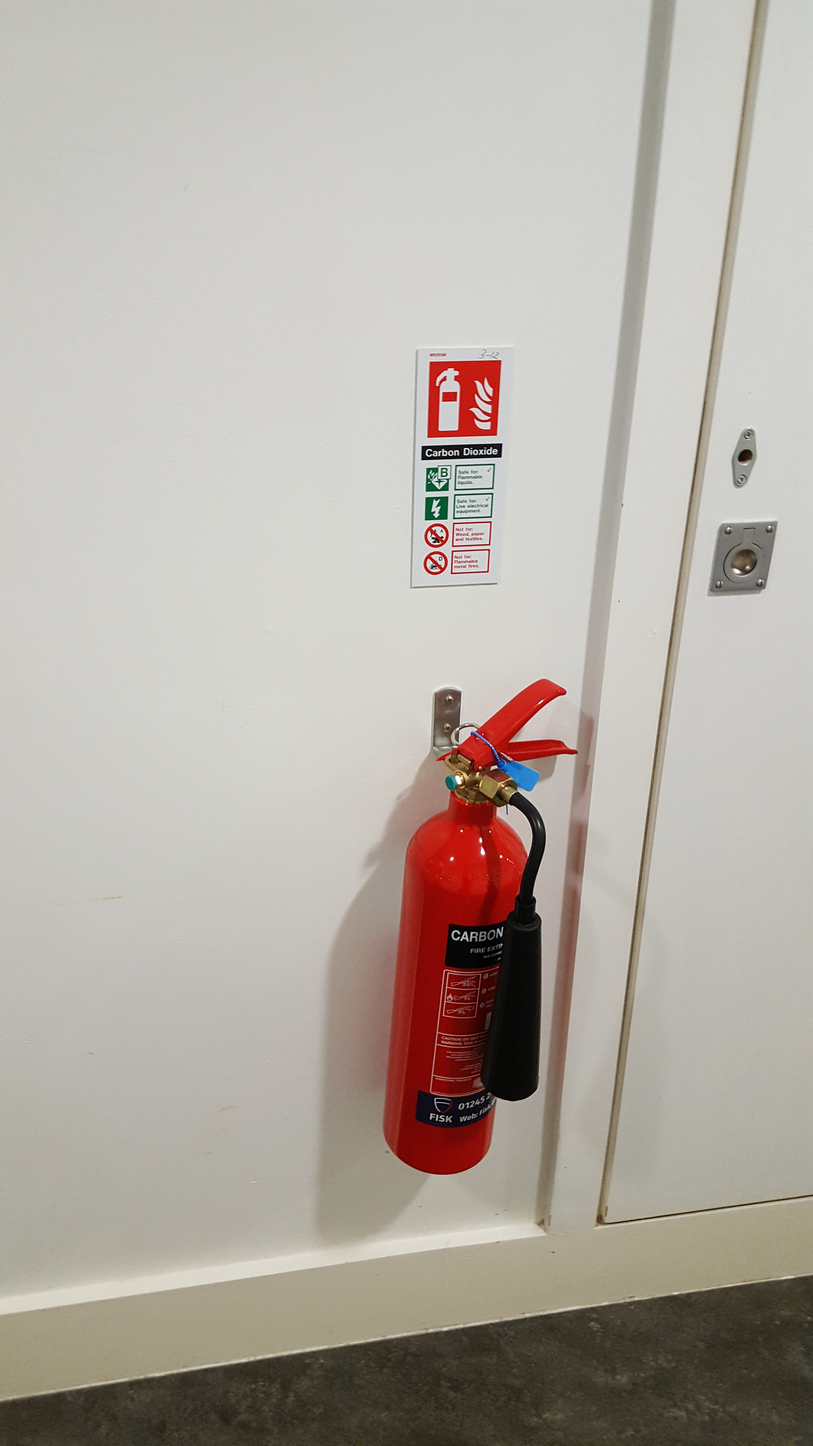fire_extinguisher: (381, 677, 579, 1176)
